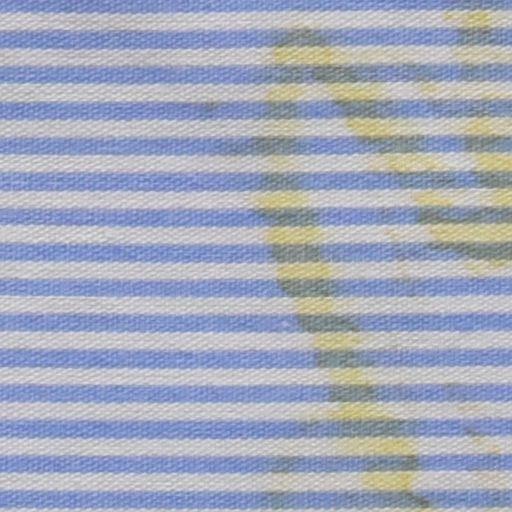defect: (258, 1, 512, 512)
